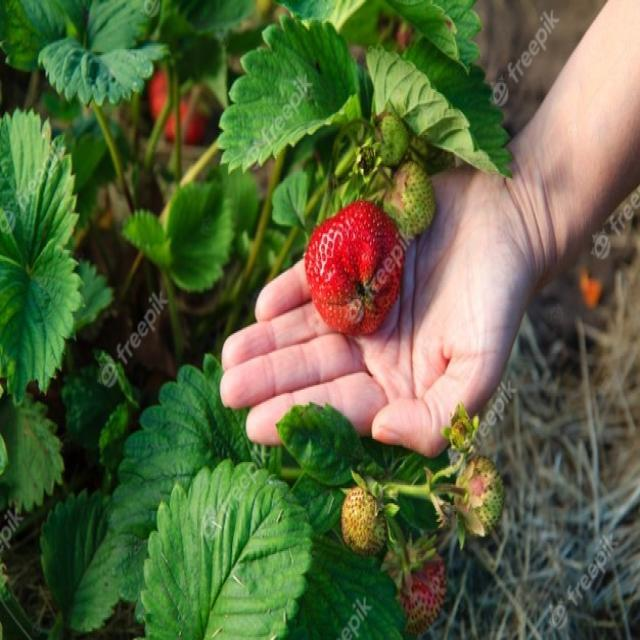straw-ripe: (306, 200, 404, 340)
straw-unripe: (386, 164, 436, 236), (342, 486, 388, 556)
